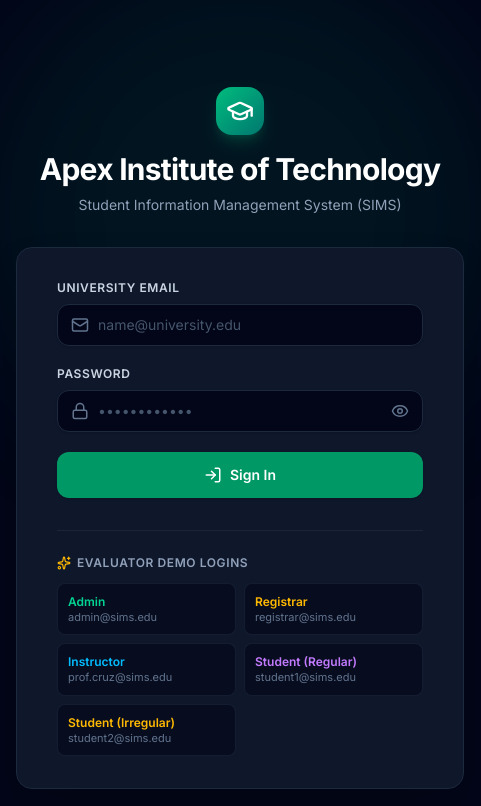
Test case: LoginPage Component › should populate fields when Evaluator Quick-Fill buttons are clicked
This screenshot has width=481, height=806.
// 1. Admin
Step 1. Click the button "Admin admin@sims.edu" → (146, 609), box [57,582,236,635]
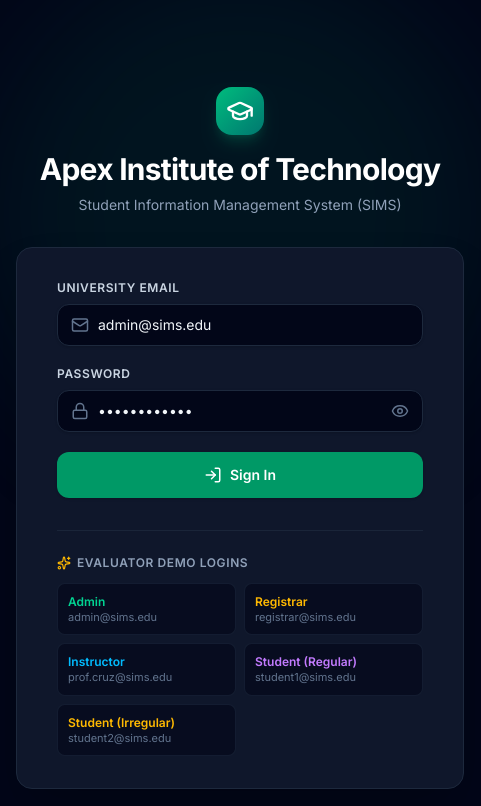
Expected: the field labelled "University Email" holds "admin@sims.edu", [57,304,423,346]
Expected: the password field labelled "Password" holds "Password123!", [57,390,423,432]
Step 2. Click the button "Registrar registrar@sims.edu" → (334, 609), box [244,582,423,635]
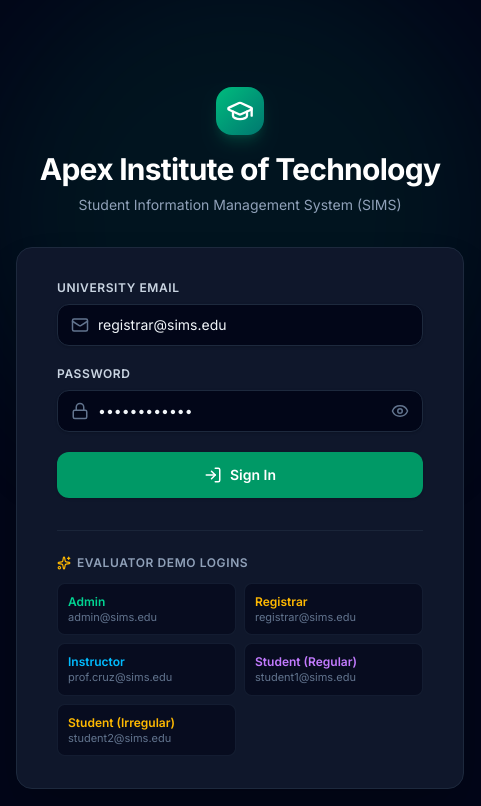
Expected: the password field labelled "Password" holds "Password123!", [57,390,423,432]
Expected: the field labelled "University Email" holds "registrar@sims.edu", [57,304,423,346]
Step 3. Click the button "Instructor prof.cruz@sims.edu" → (146, 670), box [57,643,236,696]
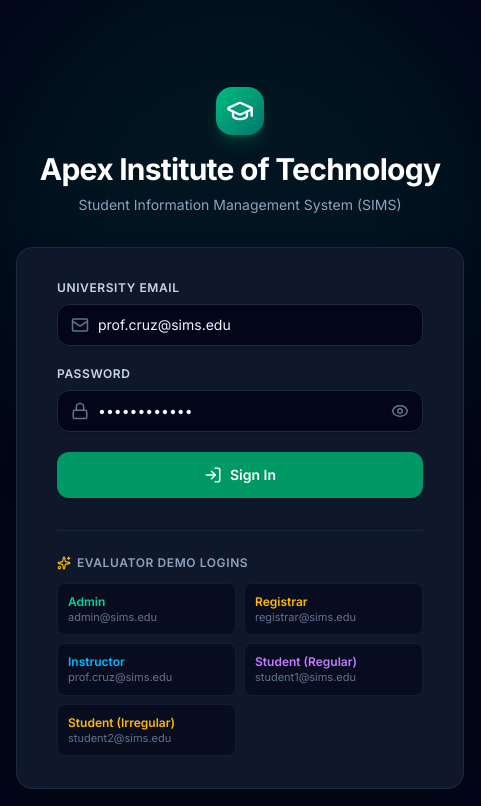
Expected: the password field labelled "Password" holds "Password123!", [57,390,423,432]
Expected: the field labelled "University Email" holds "prof.cruz@sims.edu", [57,304,423,346]
// Regular Student
Step 4. Click the button "Student (Regular) student1@sims.edu" → (334, 670), box [244,643,423,696]
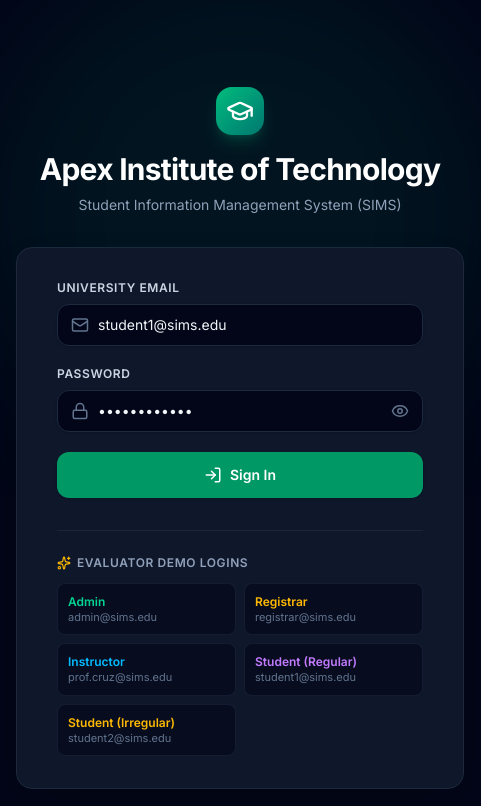
Expected: the password field labelled "Password" holds "Password123!", [57,390,423,432]
Expected: the field labelled "University Email" holds "student1@sims.edu", [57,304,423,346]
// Irregular Student
Step 5. Click the button "Student (Irregular) student2@sims.edu" → (146, 730), box [57,704,236,756]
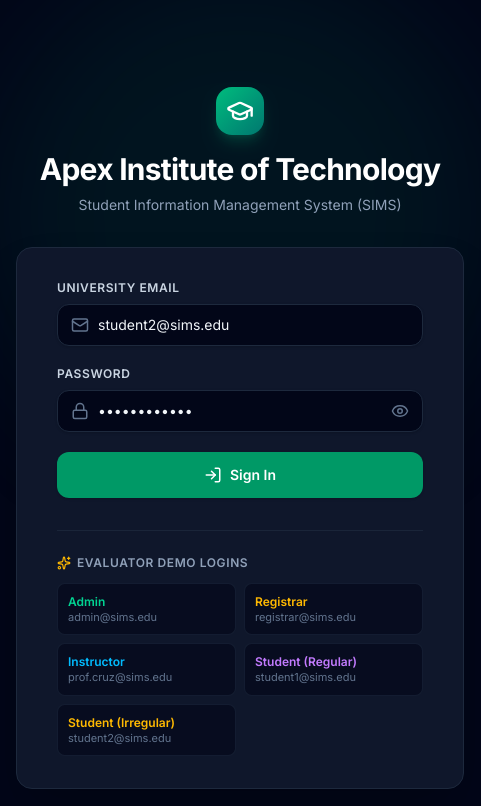
Expected: the password field labelled "Password" holds "Password123!", [57,390,423,432]
Expected: the field labelled "University Email" holds "student2@sims.edu", [57,304,423,346]
